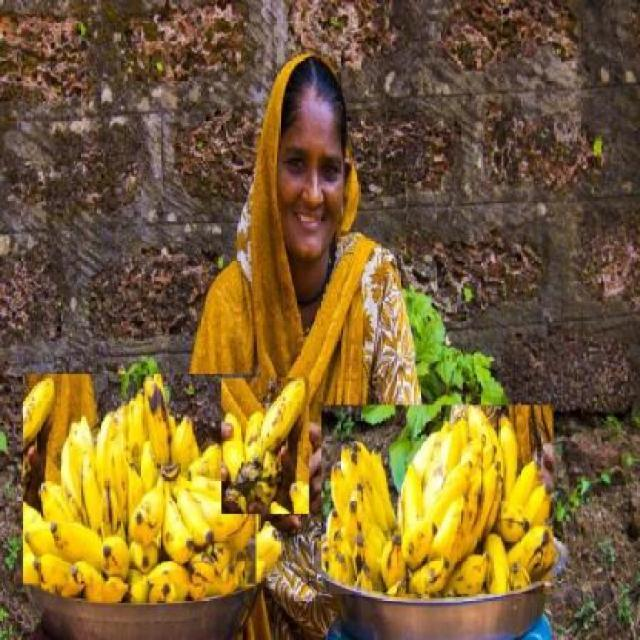Banana: (22, 373, 256, 584), (321, 404, 554, 594), (220, 378, 308, 514)
